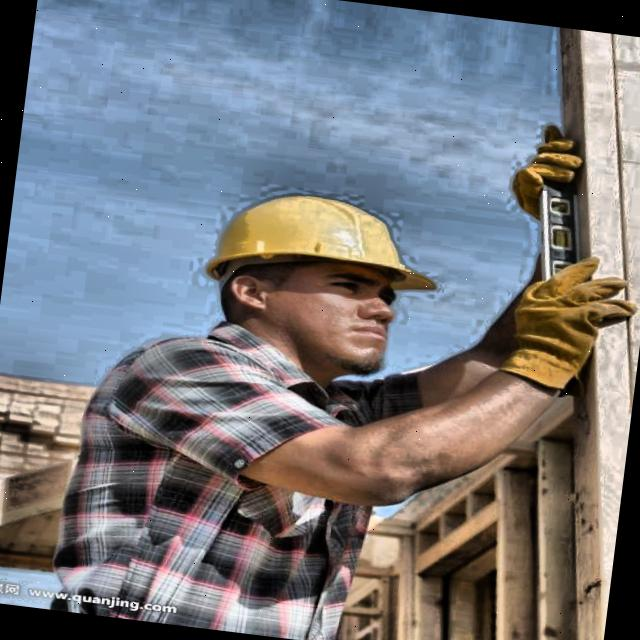helmet: (170, 154, 458, 394)
